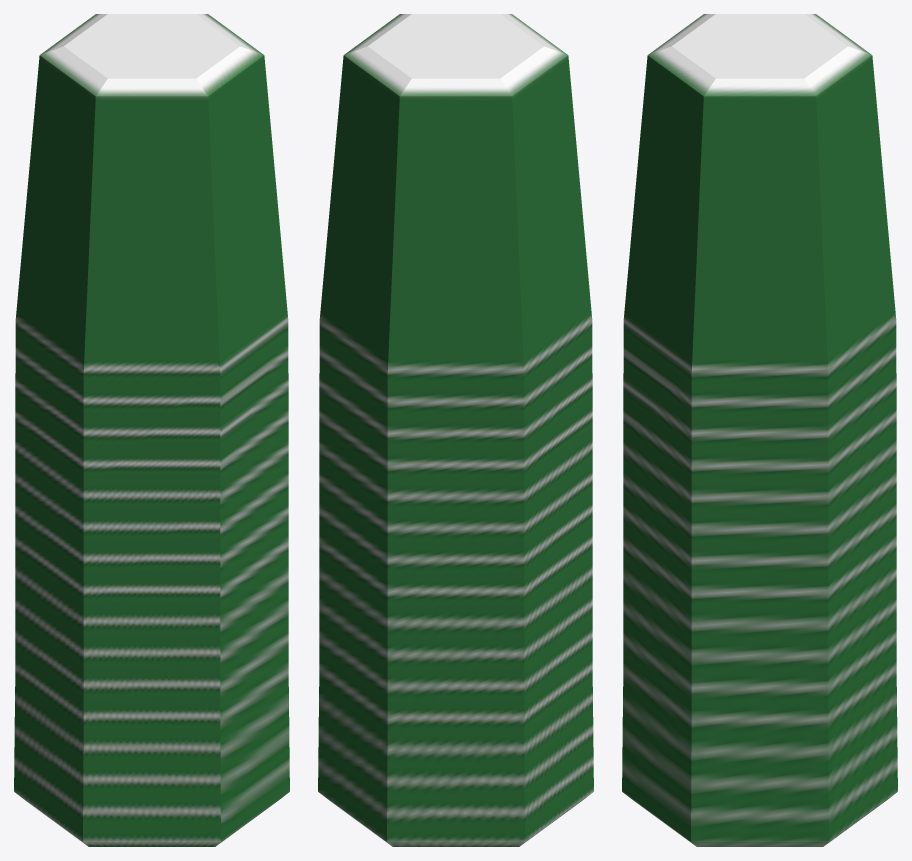
The model's file is CupGreen.fbx.
3 renders of one model, left to right at view 1: azimuth 30°, elevation 25°; view 2: azimuth 150°, elevation 25°; view 3: azimuth 270°, elevation 25°, orthographic.
Parts seen in each view (by area): view 1: Stack of Cups.001; view 2: Stack of Cups.001; view 3: Stack of Cups.001.
Boxes of the visible parts, left/top/right/bottom form: Stack of Cups.001: left=14, top=14, right=289, bottom=846; Stack of Cups.001: left=318, top=14, right=593, bottom=846; Stack of Cups.001: left=622, top=14, right=897, bottom=846.
Size of the model in its own units: 0.2666 by 0.9284 by 0.3078.
Materials: 1 (1 with a texture image).
